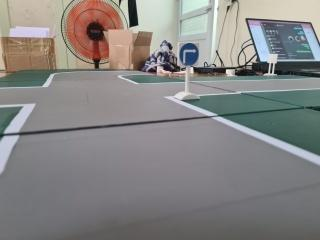right: (175, 36, 202, 71)
